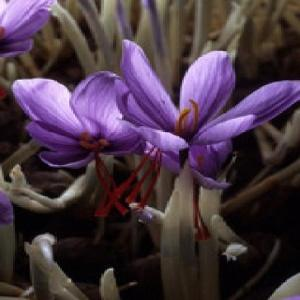Saffron: (127, 45, 300, 188), (18, 75, 144, 171)
